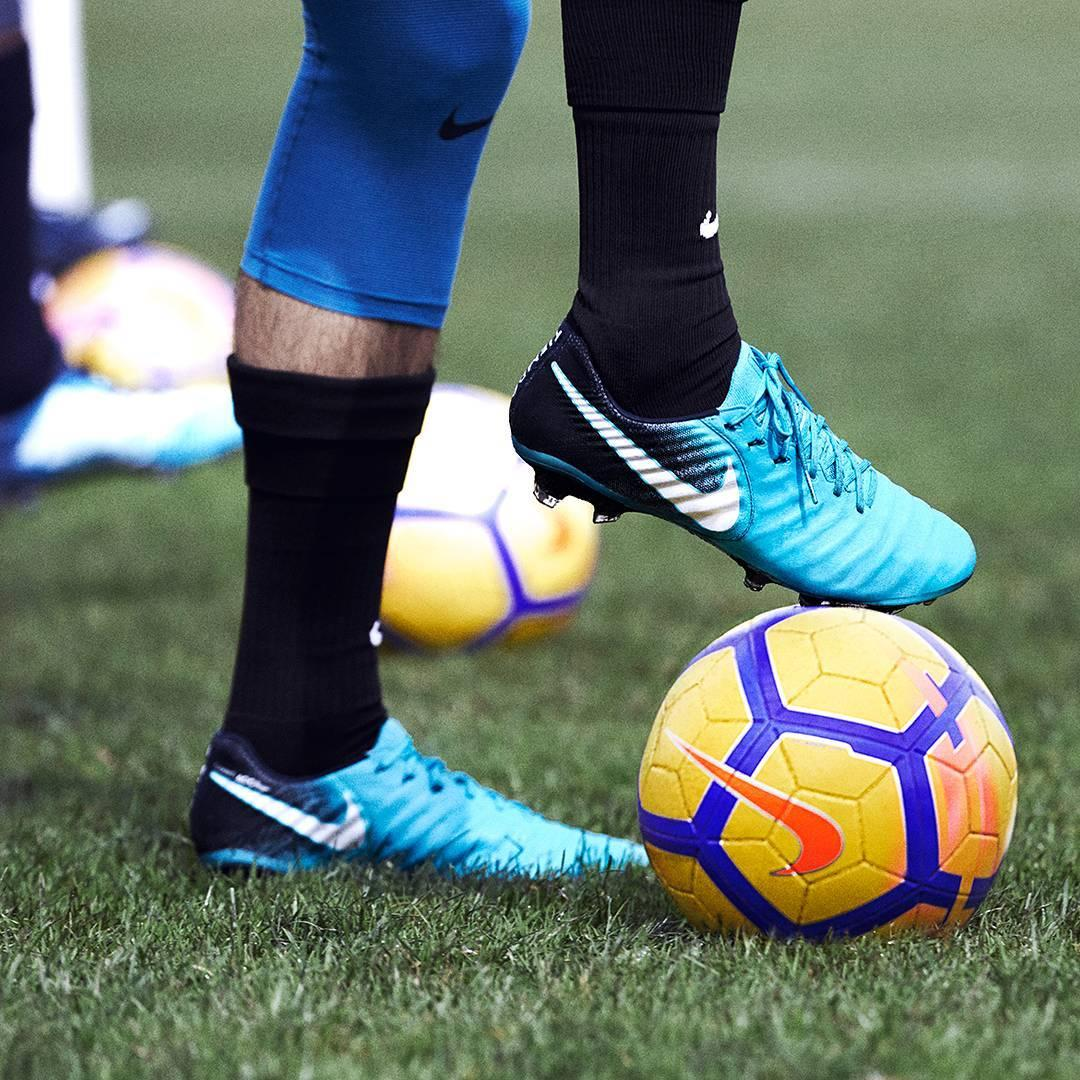football boots: (505, 336, 976, 611), (189, 722, 649, 881)
